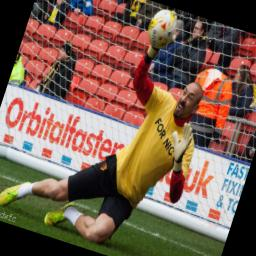football: (144, 6, 180, 49)
